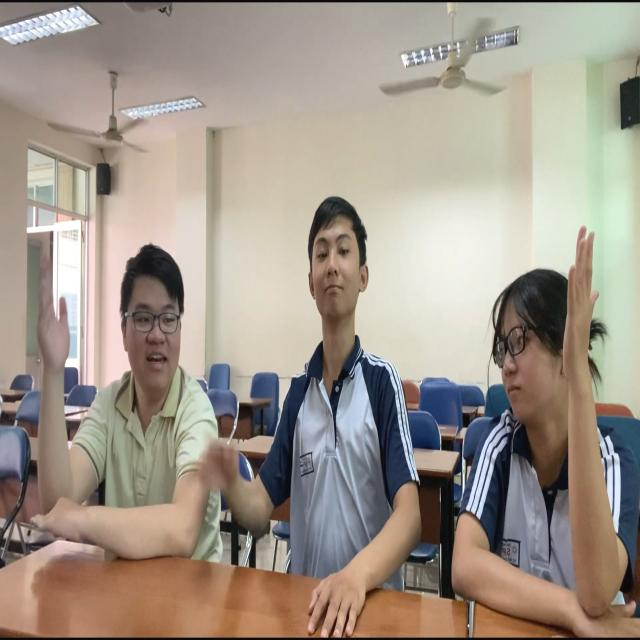raise_hand: (450, 228, 640, 640), (20, 220, 226, 563)
